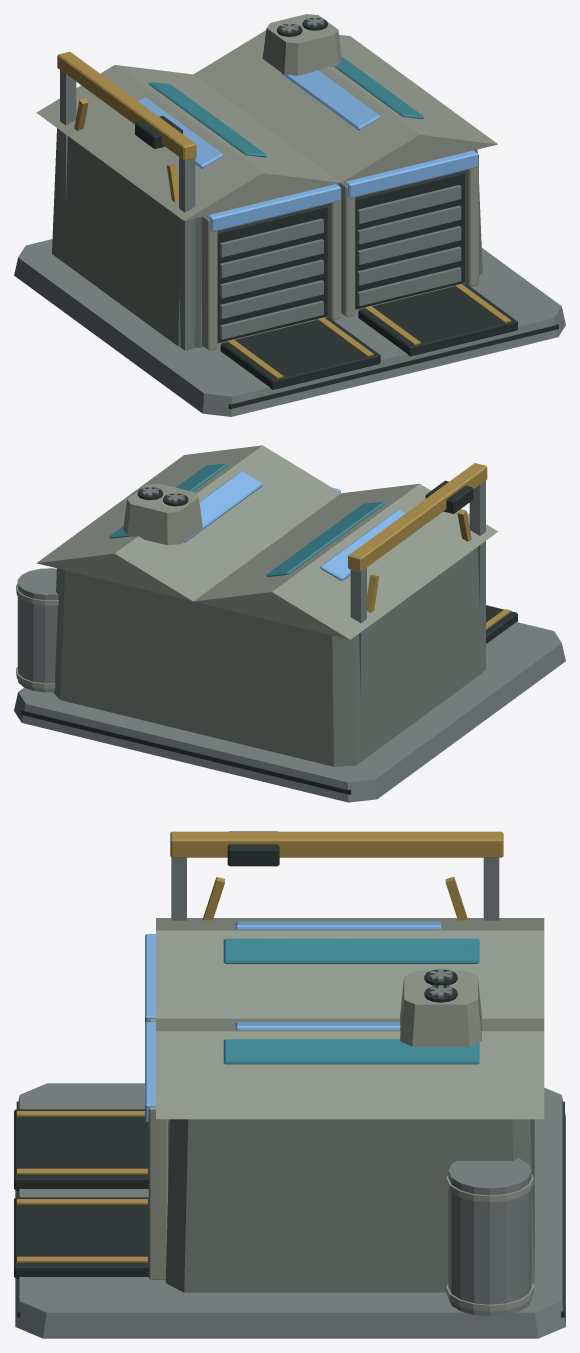
The model's file is motor_pool.glb.
The picture shows the model from 3 angles, top to bottom: view 1: azimuth 30°, elevation 25°; view 2: azimuth 150°, elevation 25°; view 3: azimuth 270°, elevation 25°; orthographic projection. The views are drawn at different scales.
Parts seen in each view (by area): view 1: motor_pool; view 2: motor_pool; view 3: motor_pool.
Boxes of the visible parts, x1=… form: motor_pool: x1=14, y1=14, x2=565, y2=416; motor_pool: x1=14, y1=445, x2=565, y2=802; motor_pool: x1=14, y1=831, x2=565, y2=1338.
Size of the model in its own units: 3.82 by 2.18 by 3.71.
